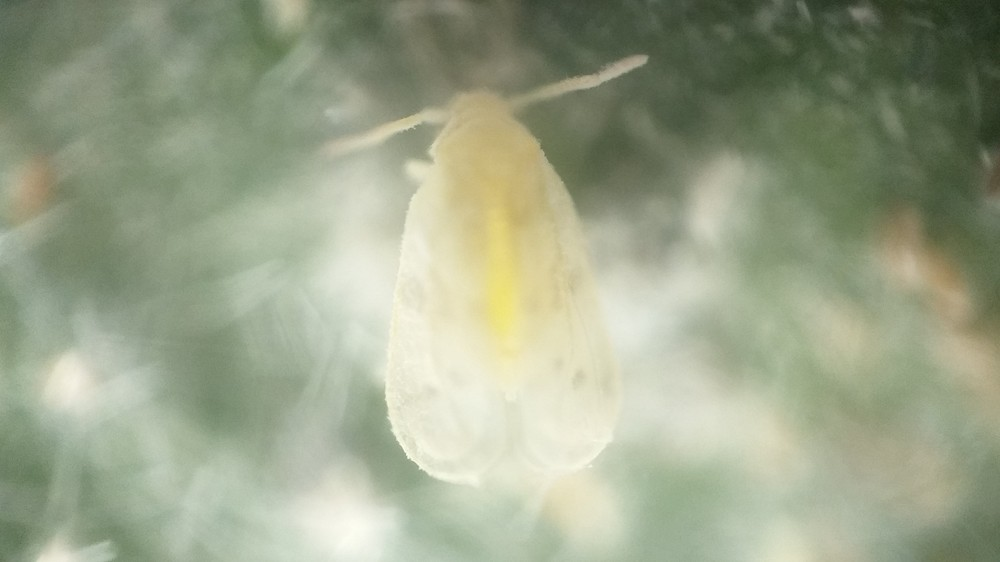Mosca Blanca: (291, 44, 683, 501)
